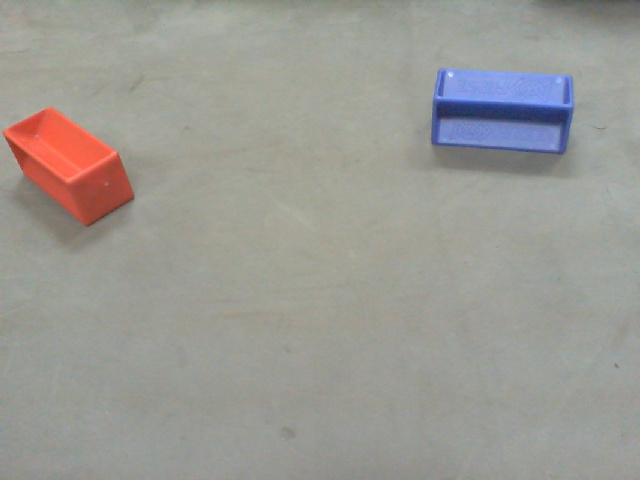BlueSample: (428, 60, 580, 163)
RedSample: (1, 102, 138, 235)
